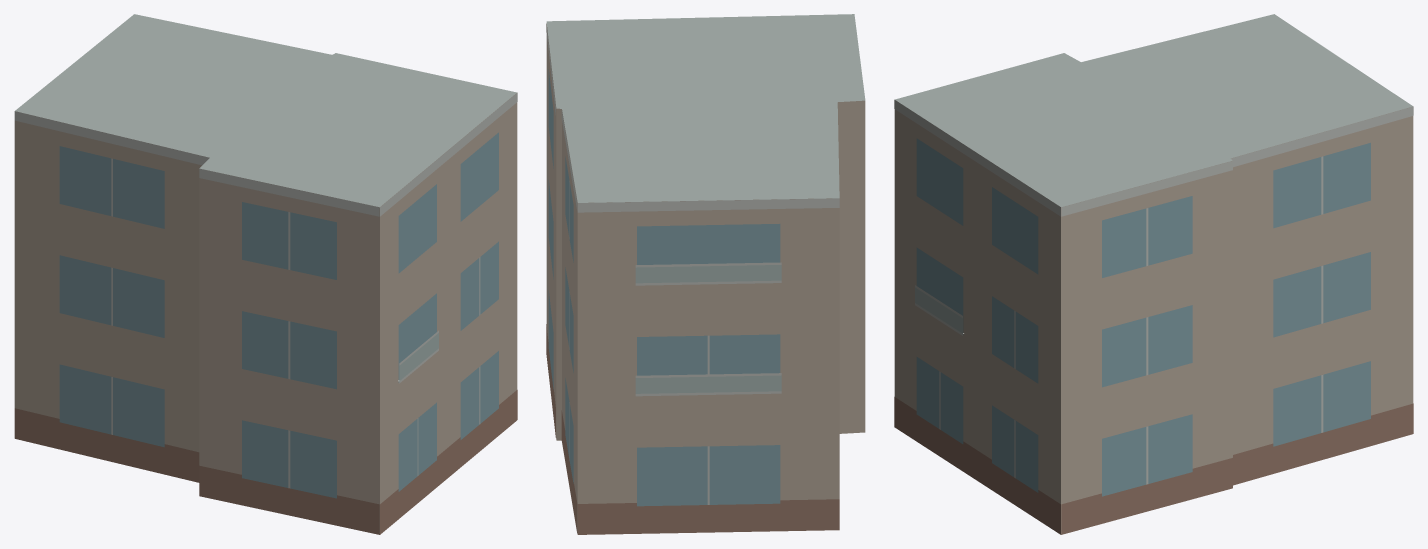
The model's file is survey-upis-32515494.glb.
3 renders of one model, left to right at view 1: azimuth 30°, elevation 25°; view 2: azimuth 150°, elevation 25°; view 3: azimuth 270°, elevation 25°, orthographic.
Visible parts, largest first — view 1: survey-upis-32515494.tmp; view 2: survey-upis-32515494.tmp; view 3: survey-upis-32515494.tmp.
Part boxes in pixels (x1=…): survey-upis-32515494.tmp: x1=14, y1=14, x2=517, y2=534; survey-upis-32515494.tmp: x1=546, y1=14, x2=865, y2=534; survey-upis-32515494.tmp: x1=894, y1=14, x2=1413, y2=534.
Bounding box in the file's own units: 10.64 × 8.4 × 12.07.
